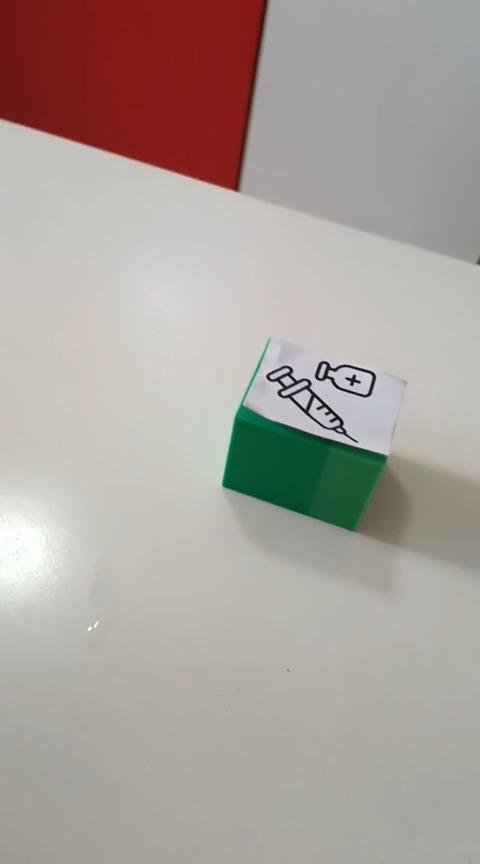antiseptic cream: (220, 335, 408, 532)
